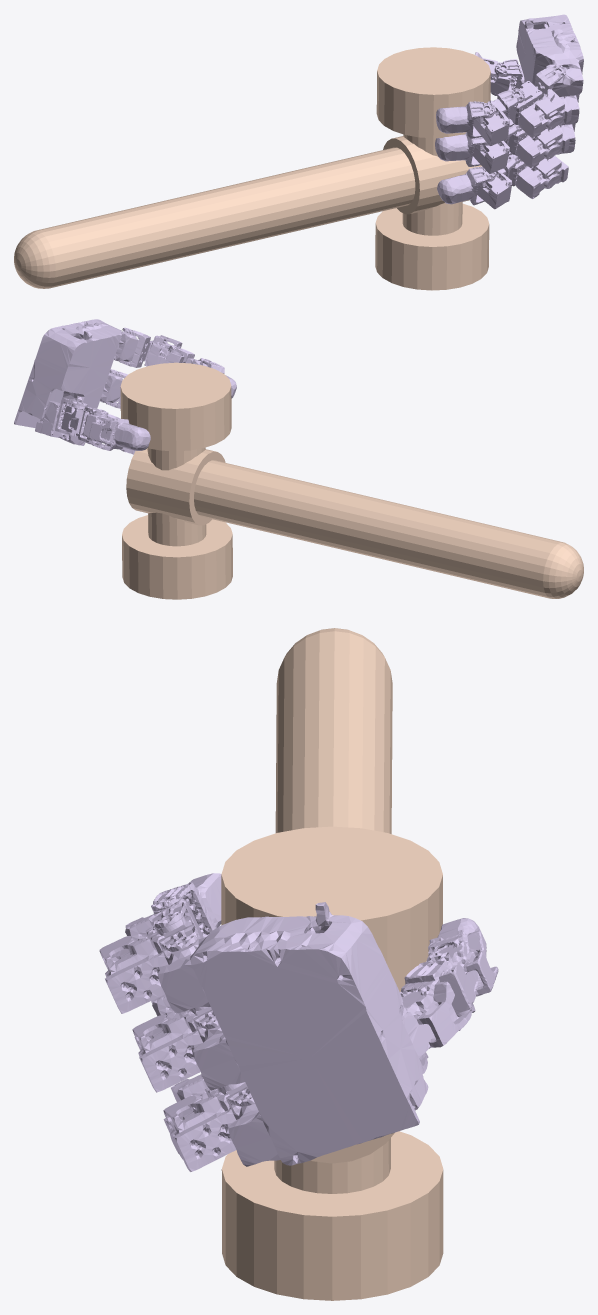
File: be6761b255cbde-closed.glb
3 renders of one model, top to bottom at view 1: azimuth 30°, elevation 25°; view 2: azimuth 150°, elevation 25°; view 3: azimuth 270°, elevation 25°, orthographic. The views are drawn at different scales.
Parts seen in each view (by area): view 1: world, LEAP_hand; view 2: world, LEAP_hand; view 3: world, LEAP_hand.
Boxes of the visible parts, x1=… form: world: x1=14, y1=47, x2=490, y2=290; LEAP_hand: x1=435, y1=14, x2=583, y2=209; world: x1=120, y1=362, x2=583, y2=599; LEAP_hand: x1=14, y1=319, x2=236, y2=454; world: x1=221, y1=628, x2=443, y2=1300; LEAP_hand: x1=99, y1=873, x2=498, y2=1171.
Size of the model in its own units: 0.6481 by 0.2511 by 0.2053.
